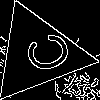C: (13, 29, 74, 80)
